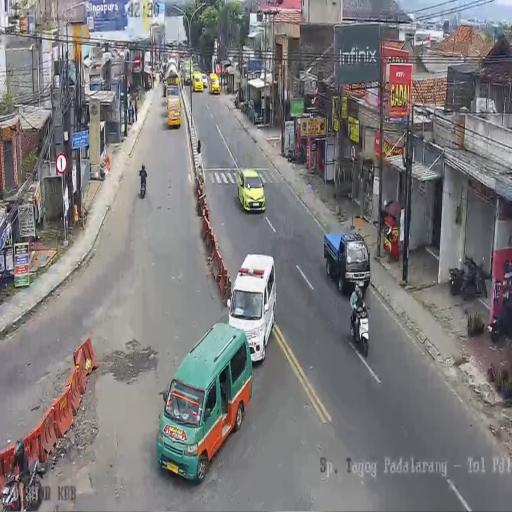3: (182, 60, 194, 84)
car: (156, 323, 253, 482), (227, 252, 276, 361), (236, 168, 266, 214), (166, 93, 181, 128), (209, 72, 220, 95), (192, 72, 204, 92)
truck: (489, 262, 512, 340), (450, 255, 488, 301), (349, 296, 370, 356), (286, 143, 304, 164), (139, 172, 147, 198), (240, 98, 249, 114), (159, 72, 163, 84)
